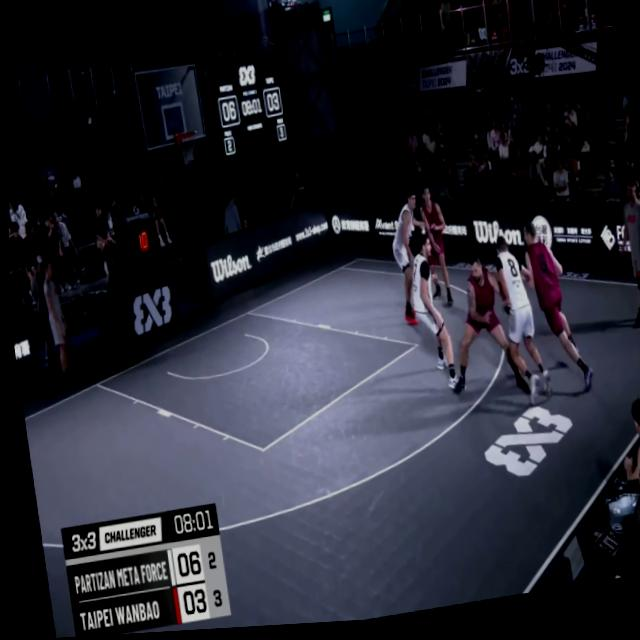hoop: (171, 127, 201, 173)
player: (436, 249, 526, 406), (513, 222, 589, 404), (485, 233, 553, 415), (403, 231, 460, 404), (378, 187, 433, 335), (415, 187, 455, 317)
